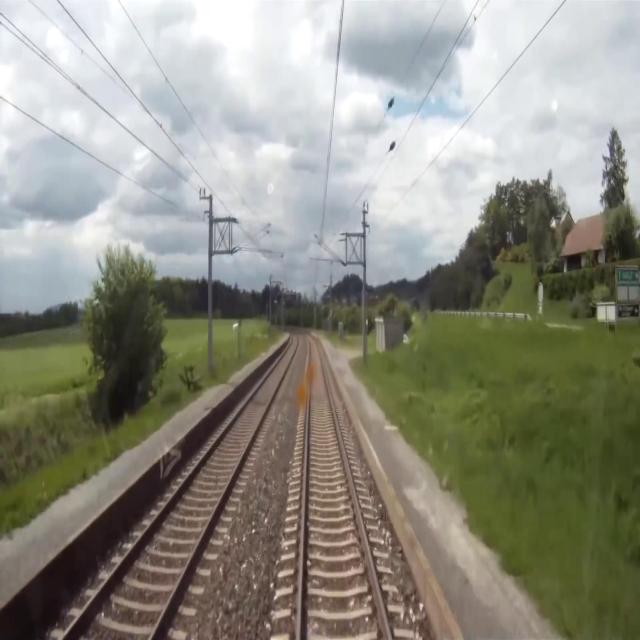rail-track: (65, 334, 296, 639), (302, 338, 387, 639)
